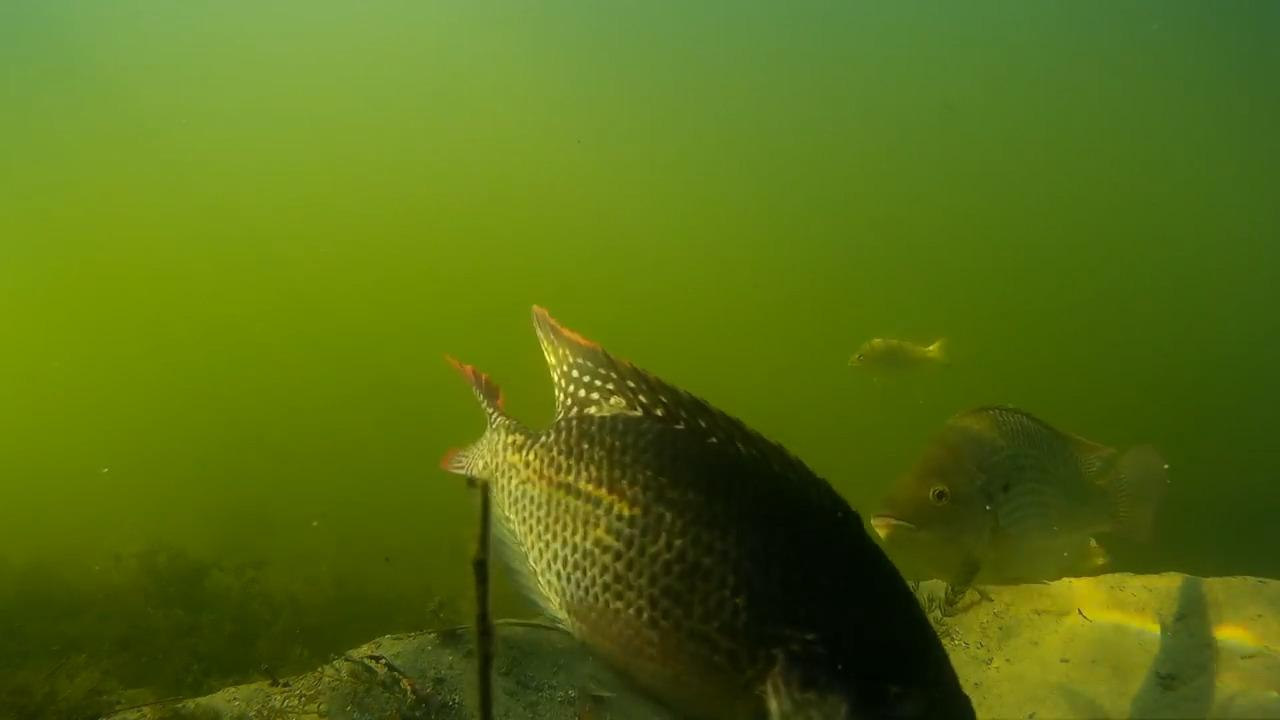Tilapia: (431, 300, 978, 720), (871, 396, 1202, 594), (821, 322, 958, 382)
